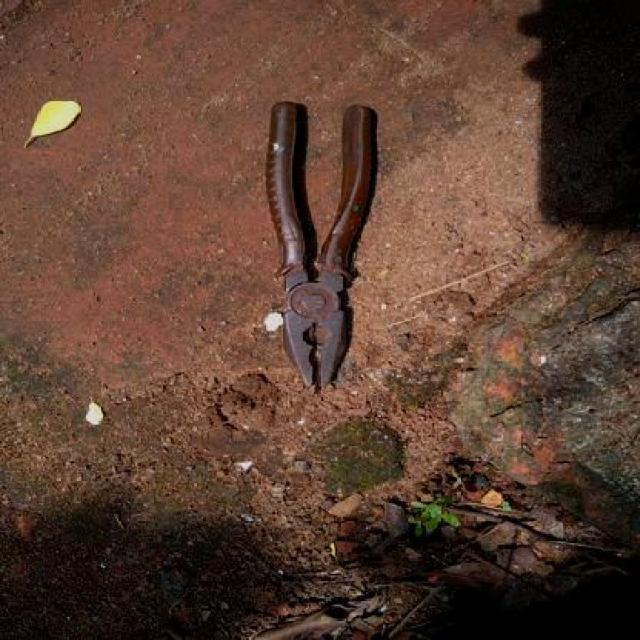pliers: (264, 103, 381, 392)
